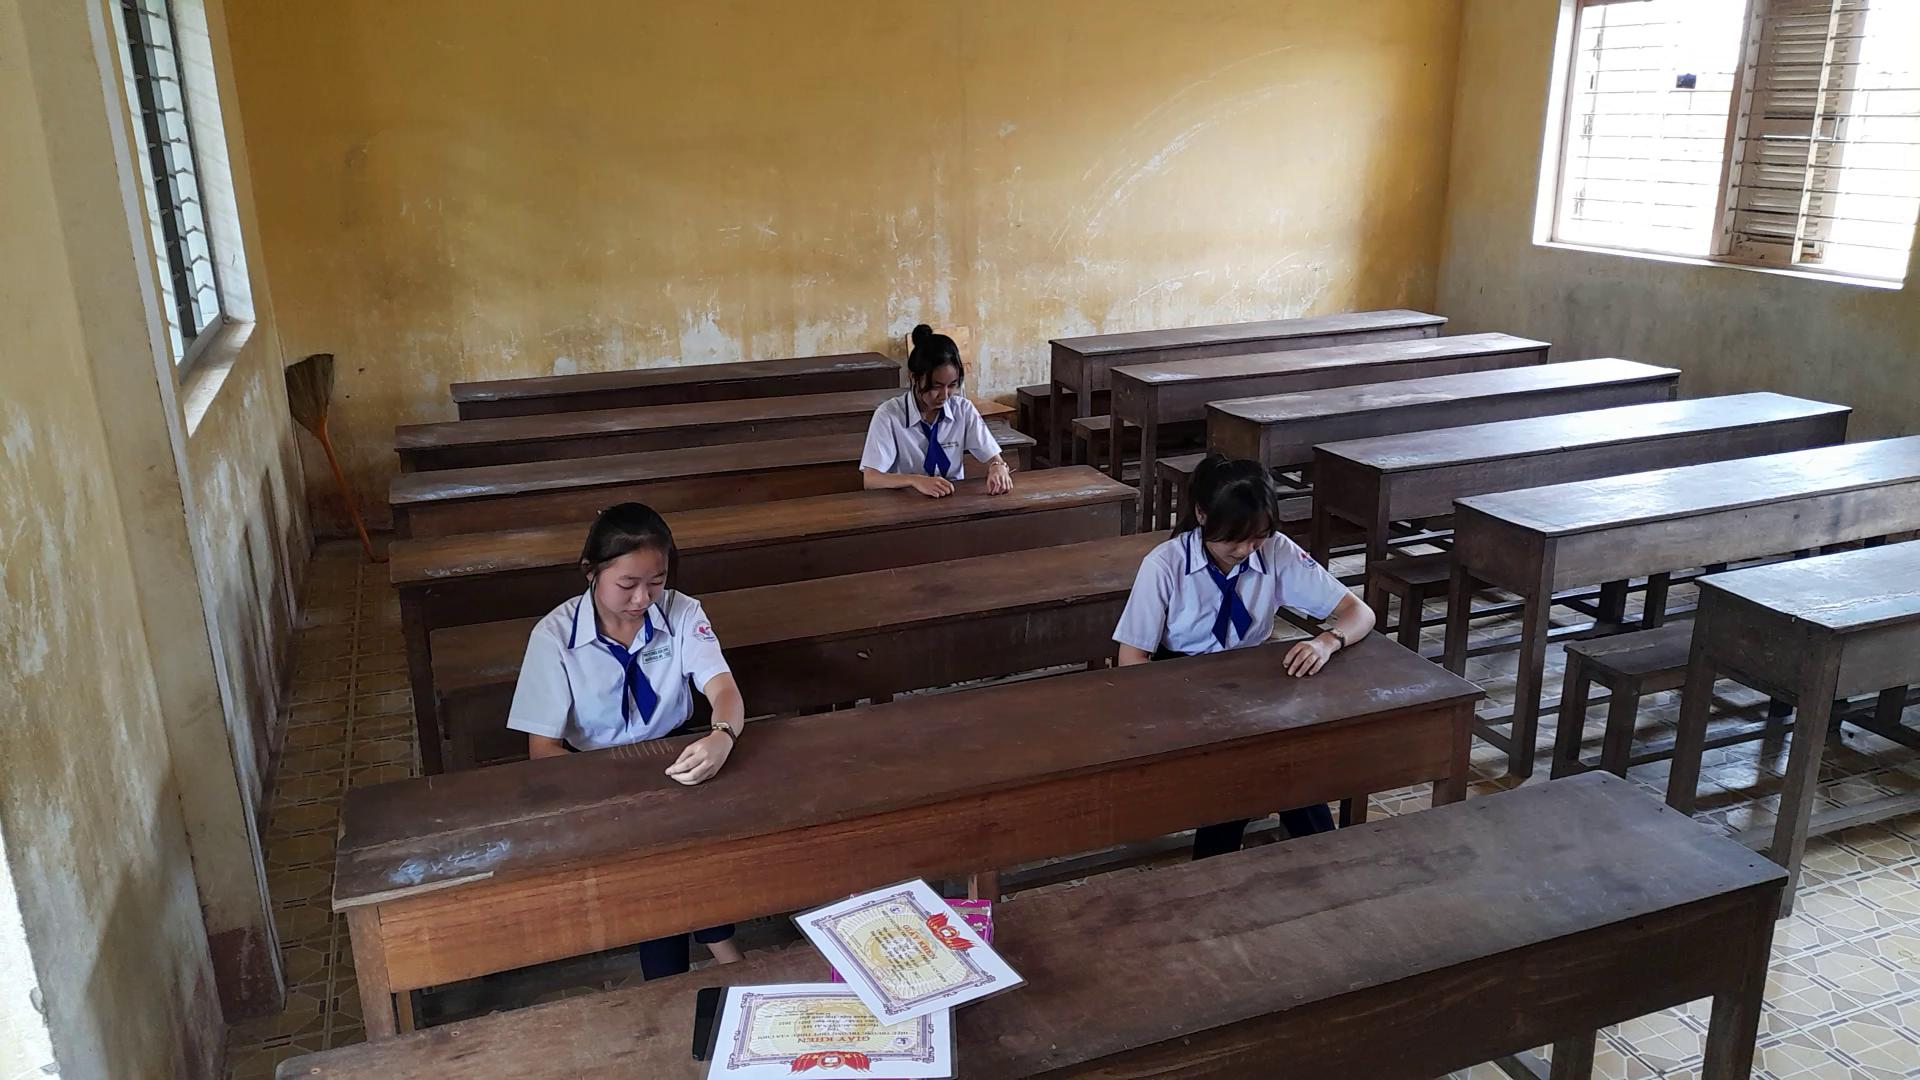Bend Over The Desk: (545, 495, 680, 636), (1176, 435, 1288, 567), (882, 289, 978, 423)
Hand Under Table: (498, 597, 568, 777), (1104, 522, 1166, 680)
